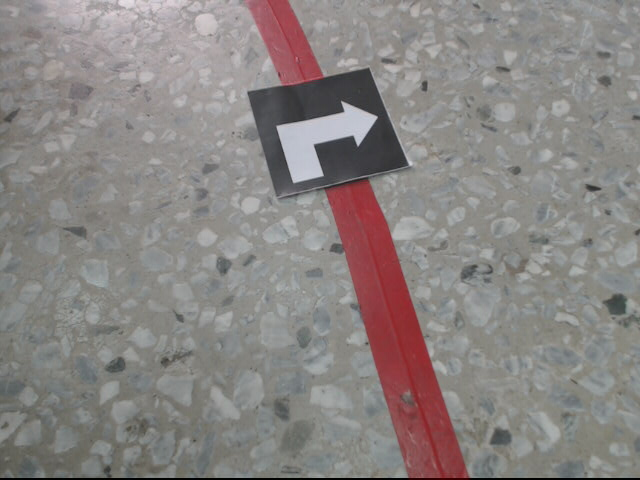right: (250, 66, 411, 197)
